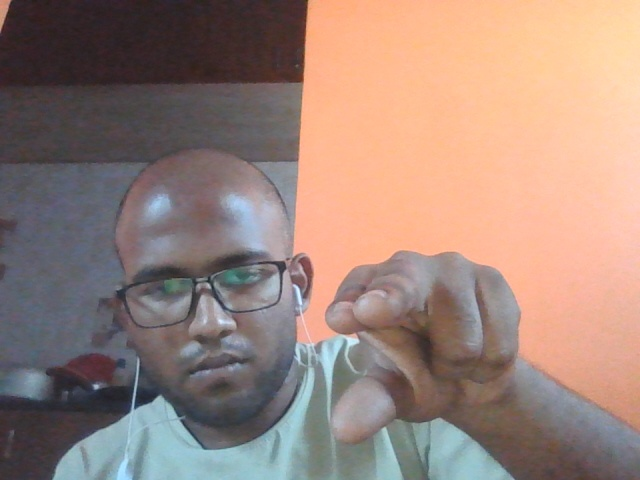no: (278, 225, 596, 459)
